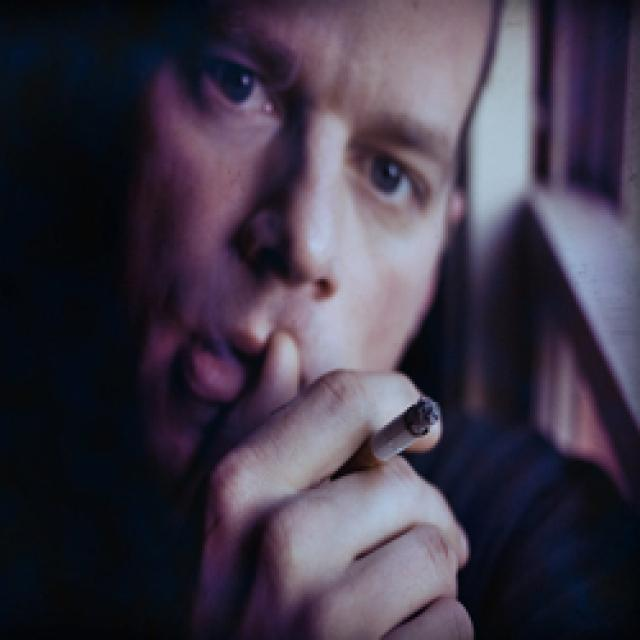Smooking: (340, 393, 457, 473)
